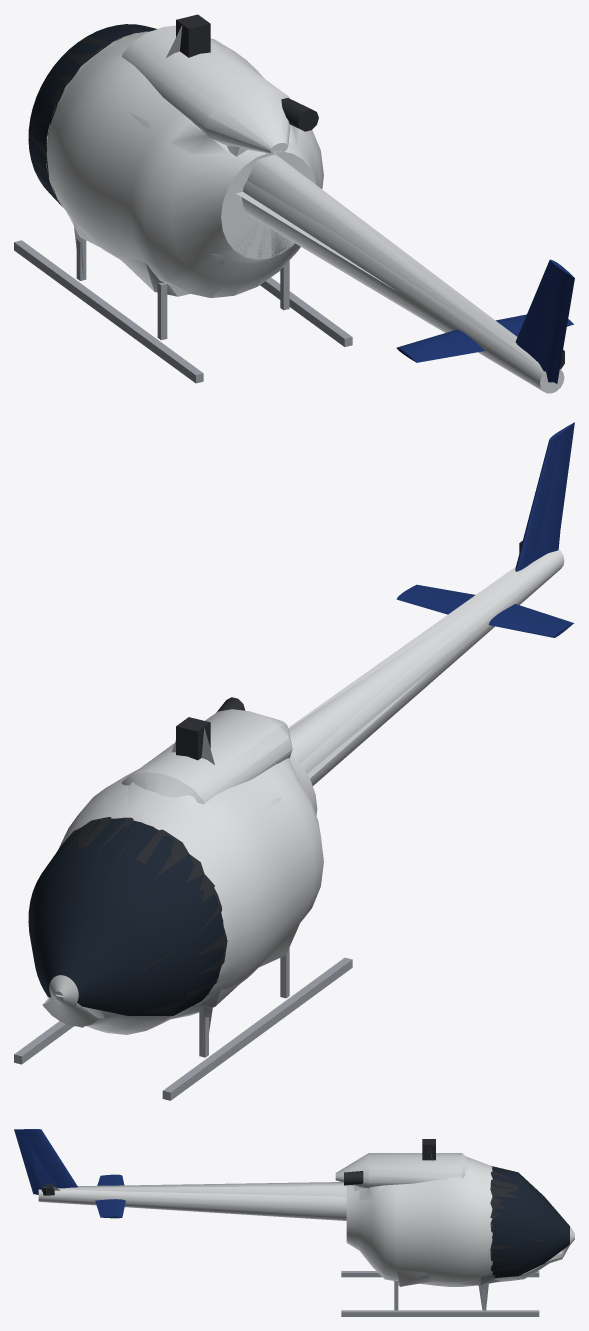
Rendered from lat_heli.dae.
3 renders of one model, top to bottom at view 1: azimuth 30°, elevation 25°; view 2: azimuth 150°, elevation 25°; view 3: azimuth 270°, elevation 25°, orthographic. The views are drawn at different scales.
Visible parts, largest first — view 1: lat_heli150, lat_heli32, lat_heli1; view 2: lat_heli150, lat_heli32, lat_heli1; view 3: lat_heli150, lat_heli32, lat_heli1.
Part boxes in pixels (left/top/right/bottom): lat_heli150: left=14, top=14, right=574, bottom=393; lat_heli32: left=29, top=24, right=570, bottom=382; lat_heli1: left=67, top=25, right=546, bottom=361; lat_heli150: left=14, top=422, right=574, bottom=1100; lat_heli32: left=30, top=424, right=572, bottom=1054; lat_heli1: left=56, top=492, right=550, bottom=1019; lat_heli150: left=14, top=1129, right=574, bottom=1316; lat_heli32: left=18, top=1129, right=569, bottom=1308; lat_heli1: left=31, top=1146, right=546, bottom=1286.
Bounding box in the file's own units: 2.29 × 10.2 × 3.35.
